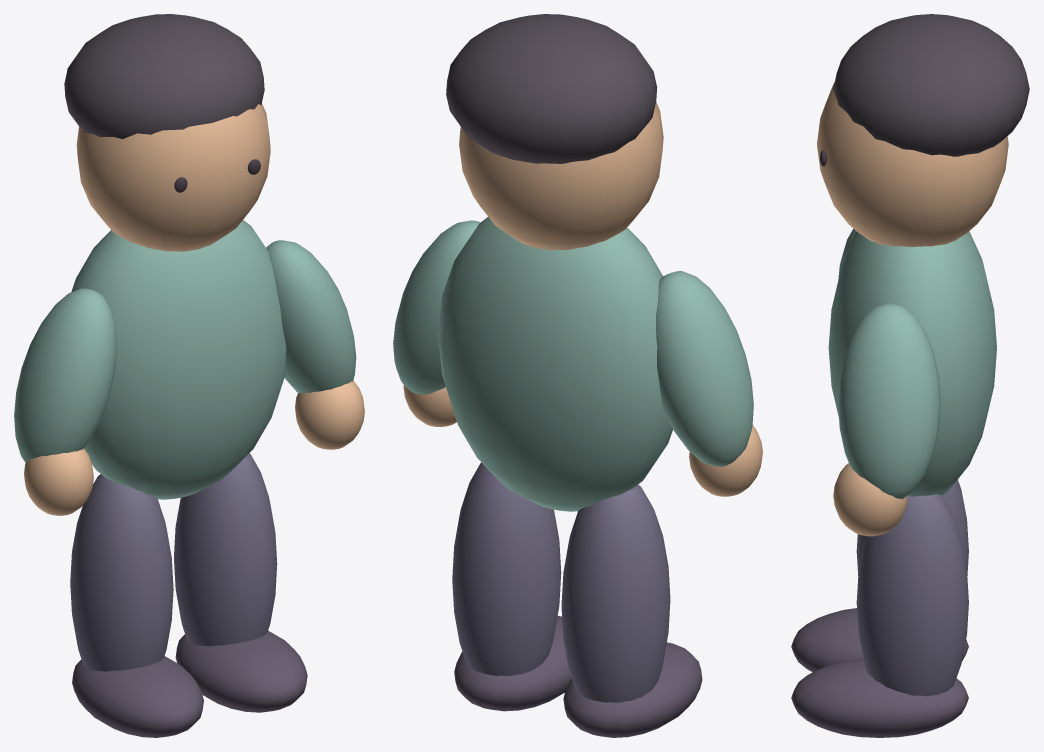
The model's file is commenter_b.gltf.
3 views of the same model, side by side, from view 1: azimuth 30°, elevation 25°; view 2: azimuth 150°, elevation 25°; view 3: azimuth 270°, elevation 25° (orthographic). The views are drawn at different scales.
Parts seen in each view (by area): view 1: body, leg (×2), arm (×2), head, hair, shoe (×2), hand (×2); view 2: body, leg (×2), hair, arm (×2), head, shoe (×2), hand (×2); view 3: hair, body, leg (×2), head, arm, shoe (×2), hand.
Boxes of the visible parts, <box> form: body: <box>71,220,286,499</box>; leg (×2): <box>70,453,277,671</box>; arm (×2): <box>14,240,356,462</box>; head: <box>76,103,270,251</box>; hair: <box>64,14,264,139</box>; shoe (×2): <box>72,630,307,737</box>; hand (×2): <box>24,380,364,515</box>; body: <box>438,217,672,511</box>; leg (×2): <box>452,462,670,702</box>; hair: <box>446,14,657,163</box>; arm (×2): <box>393,220,753,466</box>; head: <box>459,102,663,250</box>; shoe (×2): <box>454,616,702,737</box>; hand (×2): <box>403,385,762,496</box>; hair: <box>833,14,1029,156</box>; body: <box>828,231,996,496</box>; leg (×2): <box>856,479,968,696</box>; head: <box>817,82,1008,246</box>; arm: <box>838,303,940,498</box>; shoe (×2): <box>791,608,968,737</box>; hand: <box>833,463,907,536</box>.
Size of the model in its own units: 0.83 by 1.59 by 0.51.
